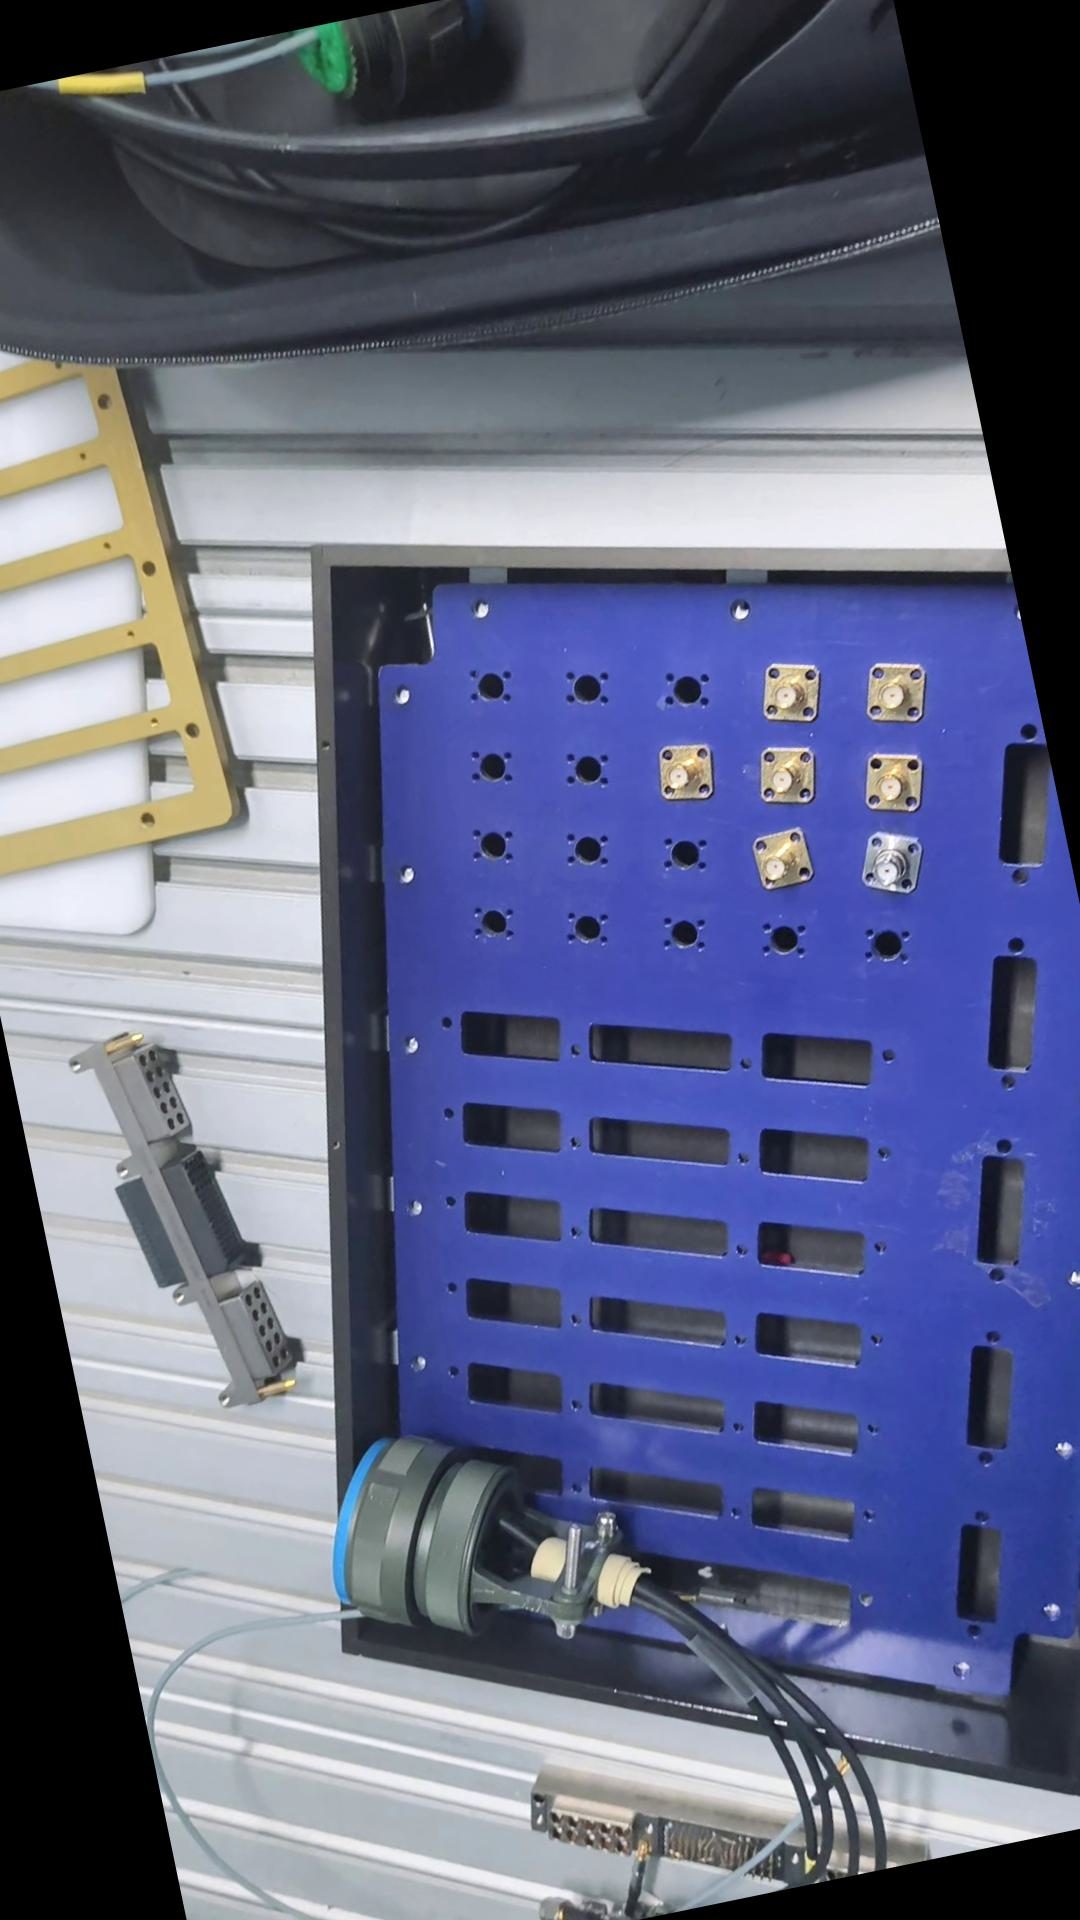SMA: (847, 819, 928, 905), (847, 742, 927, 820), (744, 736, 824, 812), (856, 654, 934, 732), (738, 824, 815, 898), (750, 655, 823, 731), (645, 741, 720, 811)
